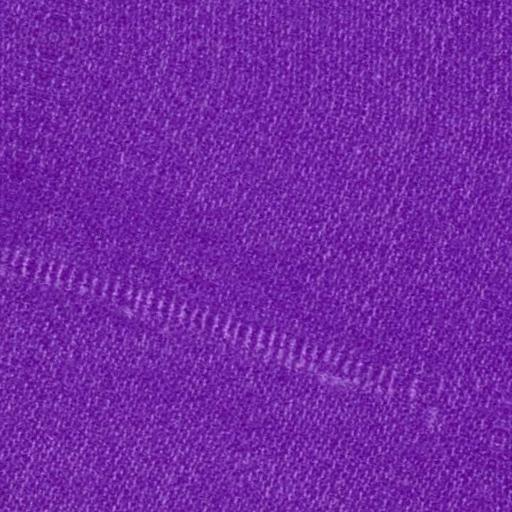slub: (1, 231, 415, 406)
